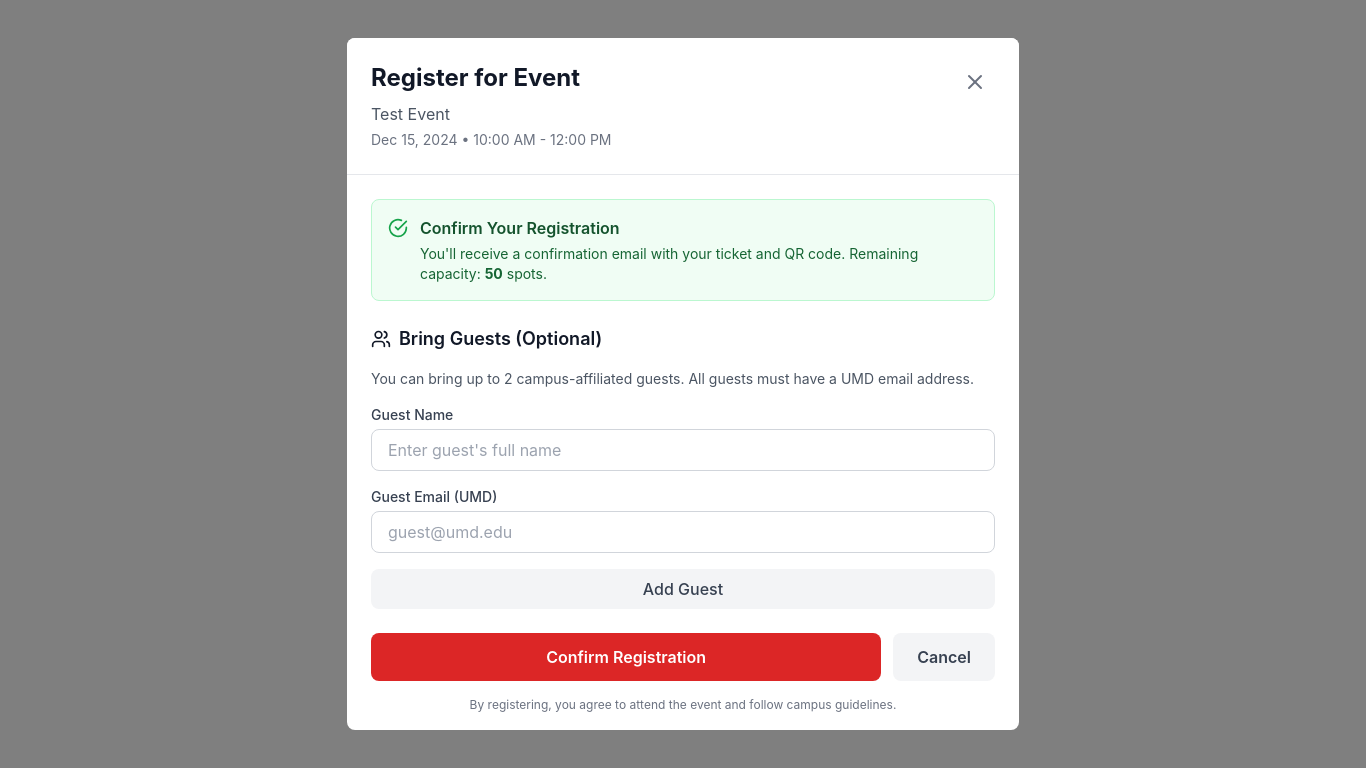
Test: RegistrationModal › validates guest email is required
Type "John Doe" into the field with placeholder "Enter guest's full name". click: point(683, 450)
box: [371,429,995,471]
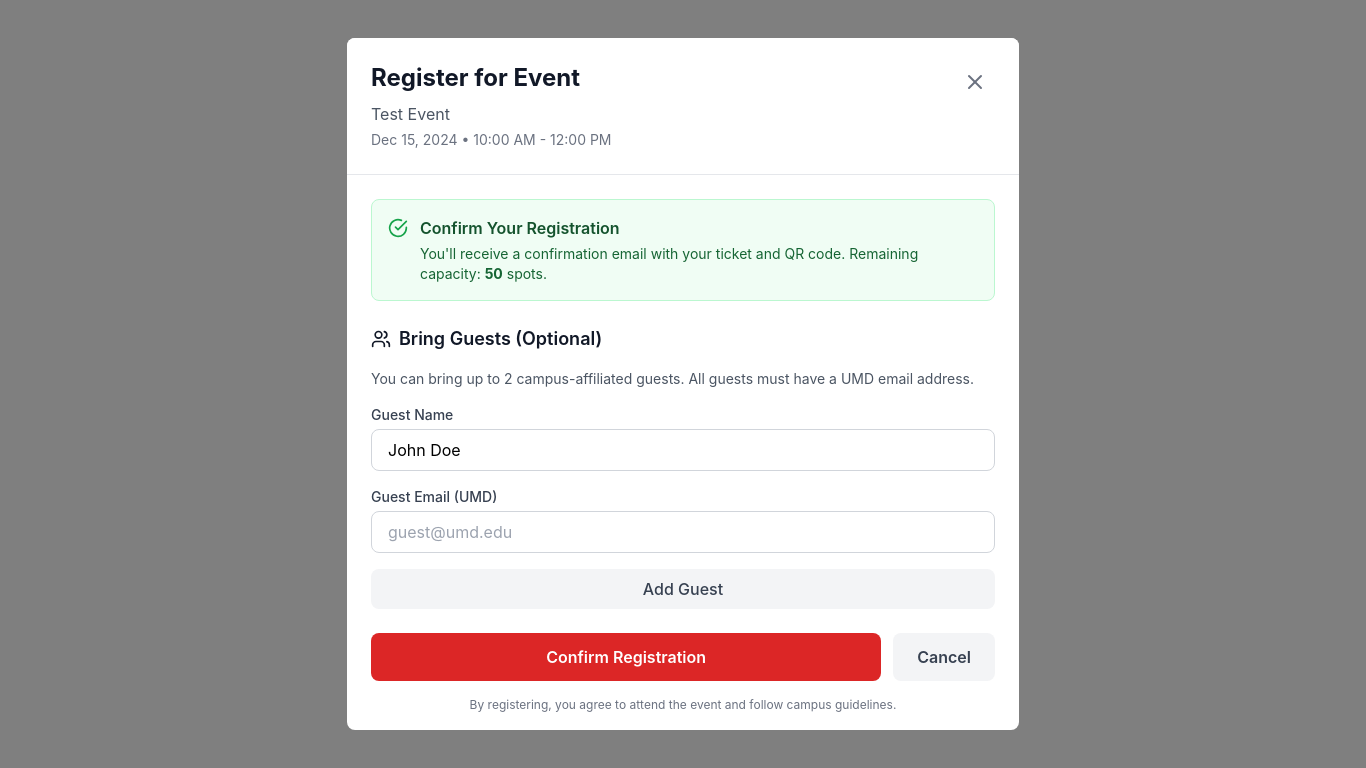
Click the button "Add Guest". click: point(683, 589)
box: [371,569,995,609]
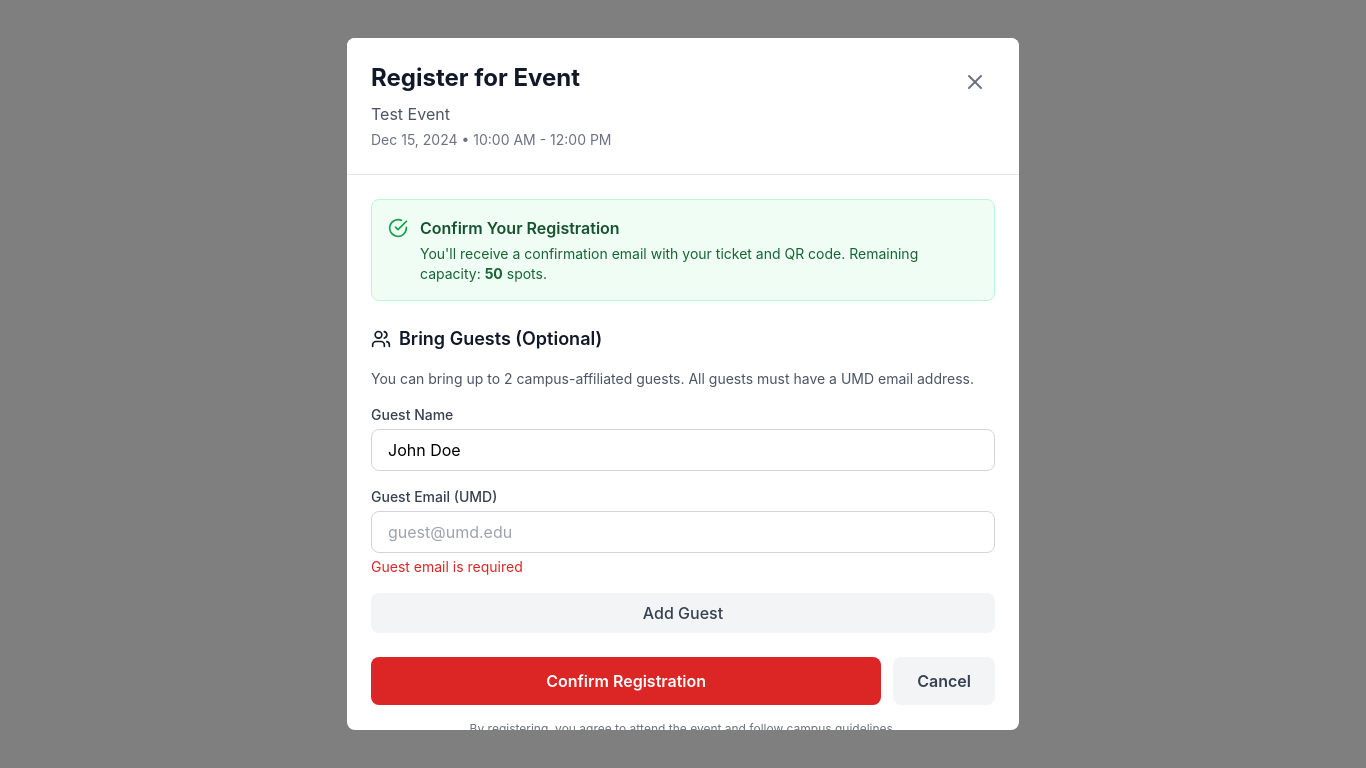
Result: the text "Guest email is required" is shown at [371,558,523,575]
